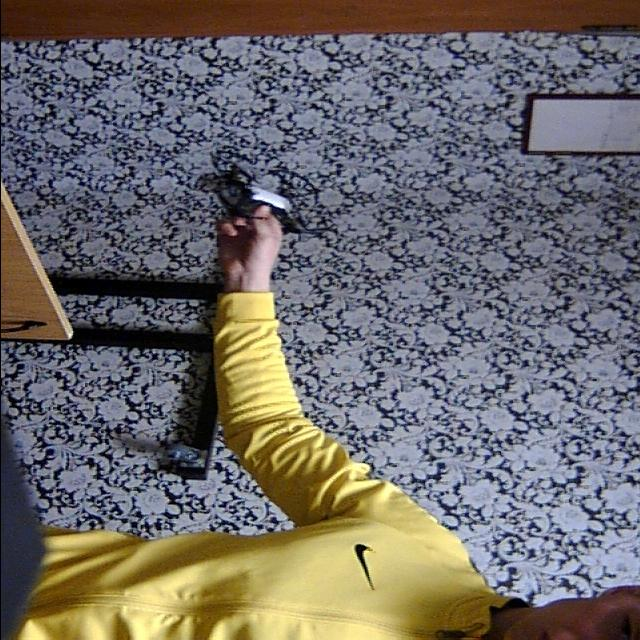drone: (198, 132, 324, 260)
